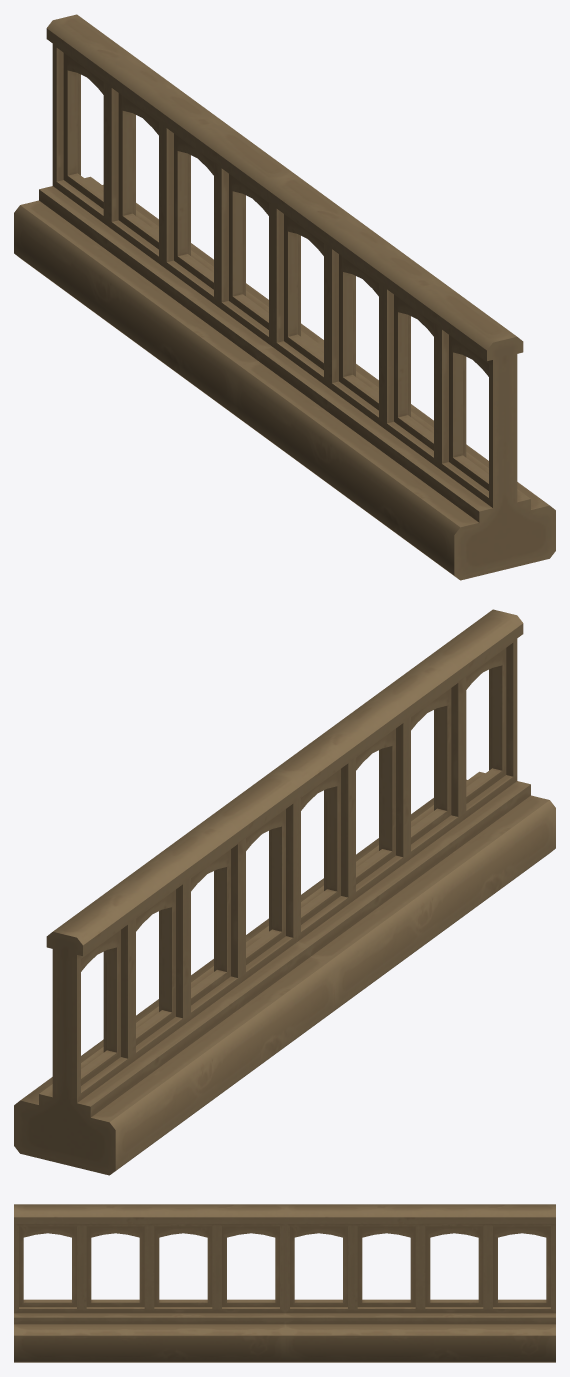
The model's file is ARC0510071.fbx.
3 views of the same model, one above another, from view 1: azimuth 30°, elevation 25°; view 2: azimuth 150°, elevation 25°; view 3: azimuth 270°, elevation 25° (orthographic). The views are drawn at different scales.
Visible parts, largest first — view 1: smARC0510071; view 2: smARC0510071; view 3: smARC0510071.
Boxes of the visible parts, x1,y1,x2,y2 form: smARC0510071: (14, 14, 555, 580); smARC0510071: (14, 609, 555, 1175); smARC0510071: (14, 1204, 555, 1362).
Bounding box in the file's own units: 40 × 86.45 × 300.
Materials: 1 (1 with a texture image).
